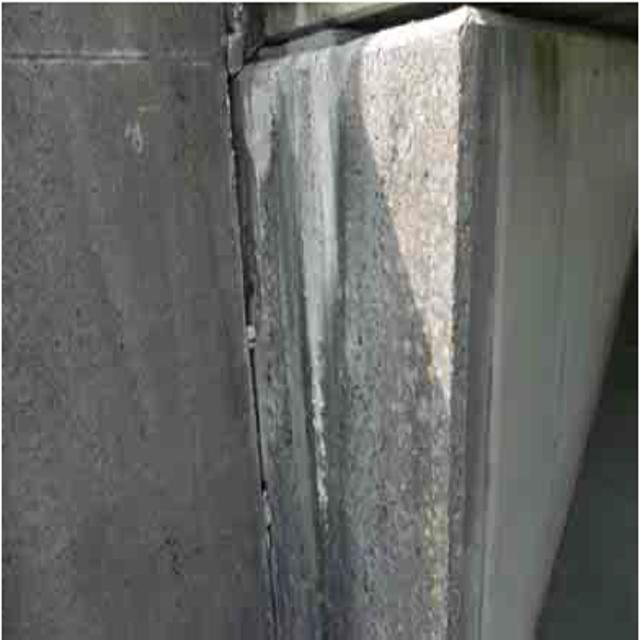freelime: (232, 53, 347, 371)
